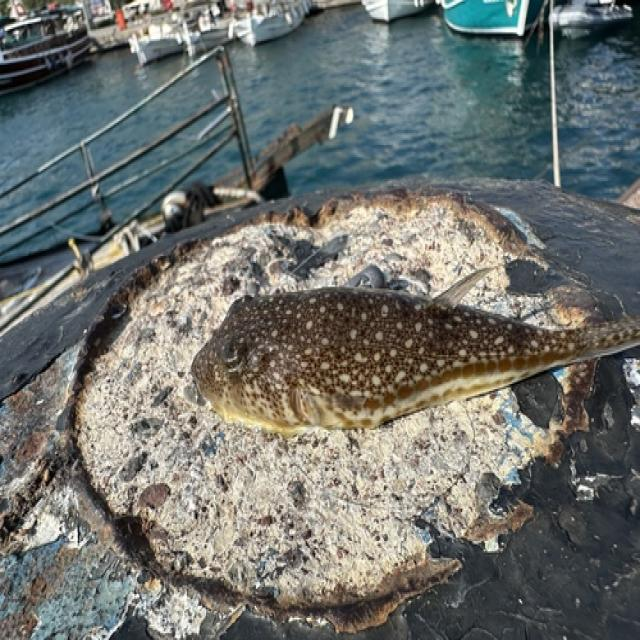Balik: (192, 287, 639, 435)
